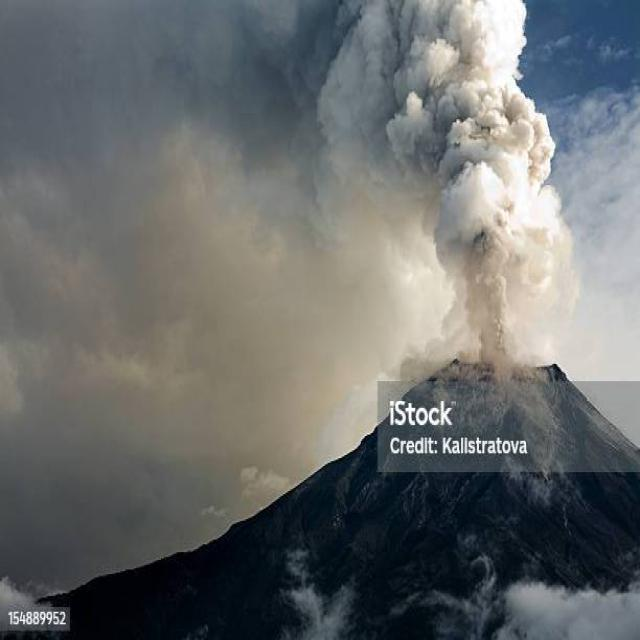Smoke: (312, 0, 577, 373)
